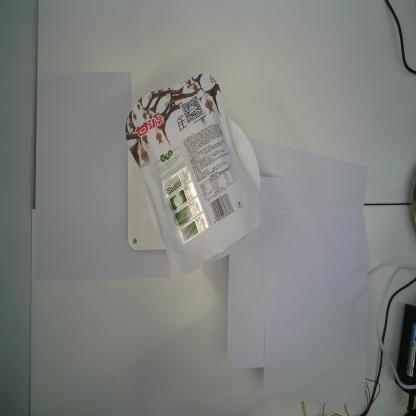Dried Fruit: (124, 70, 262, 275)
